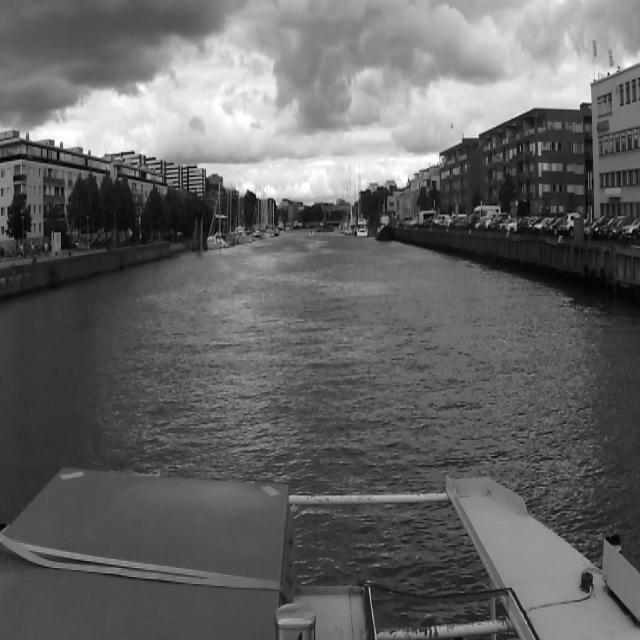ship: (373, 196, 395, 246), (344, 162, 356, 234), (208, 231, 225, 249), (316, 222, 334, 235), (357, 217, 368, 236), (309, 230, 314, 238)
